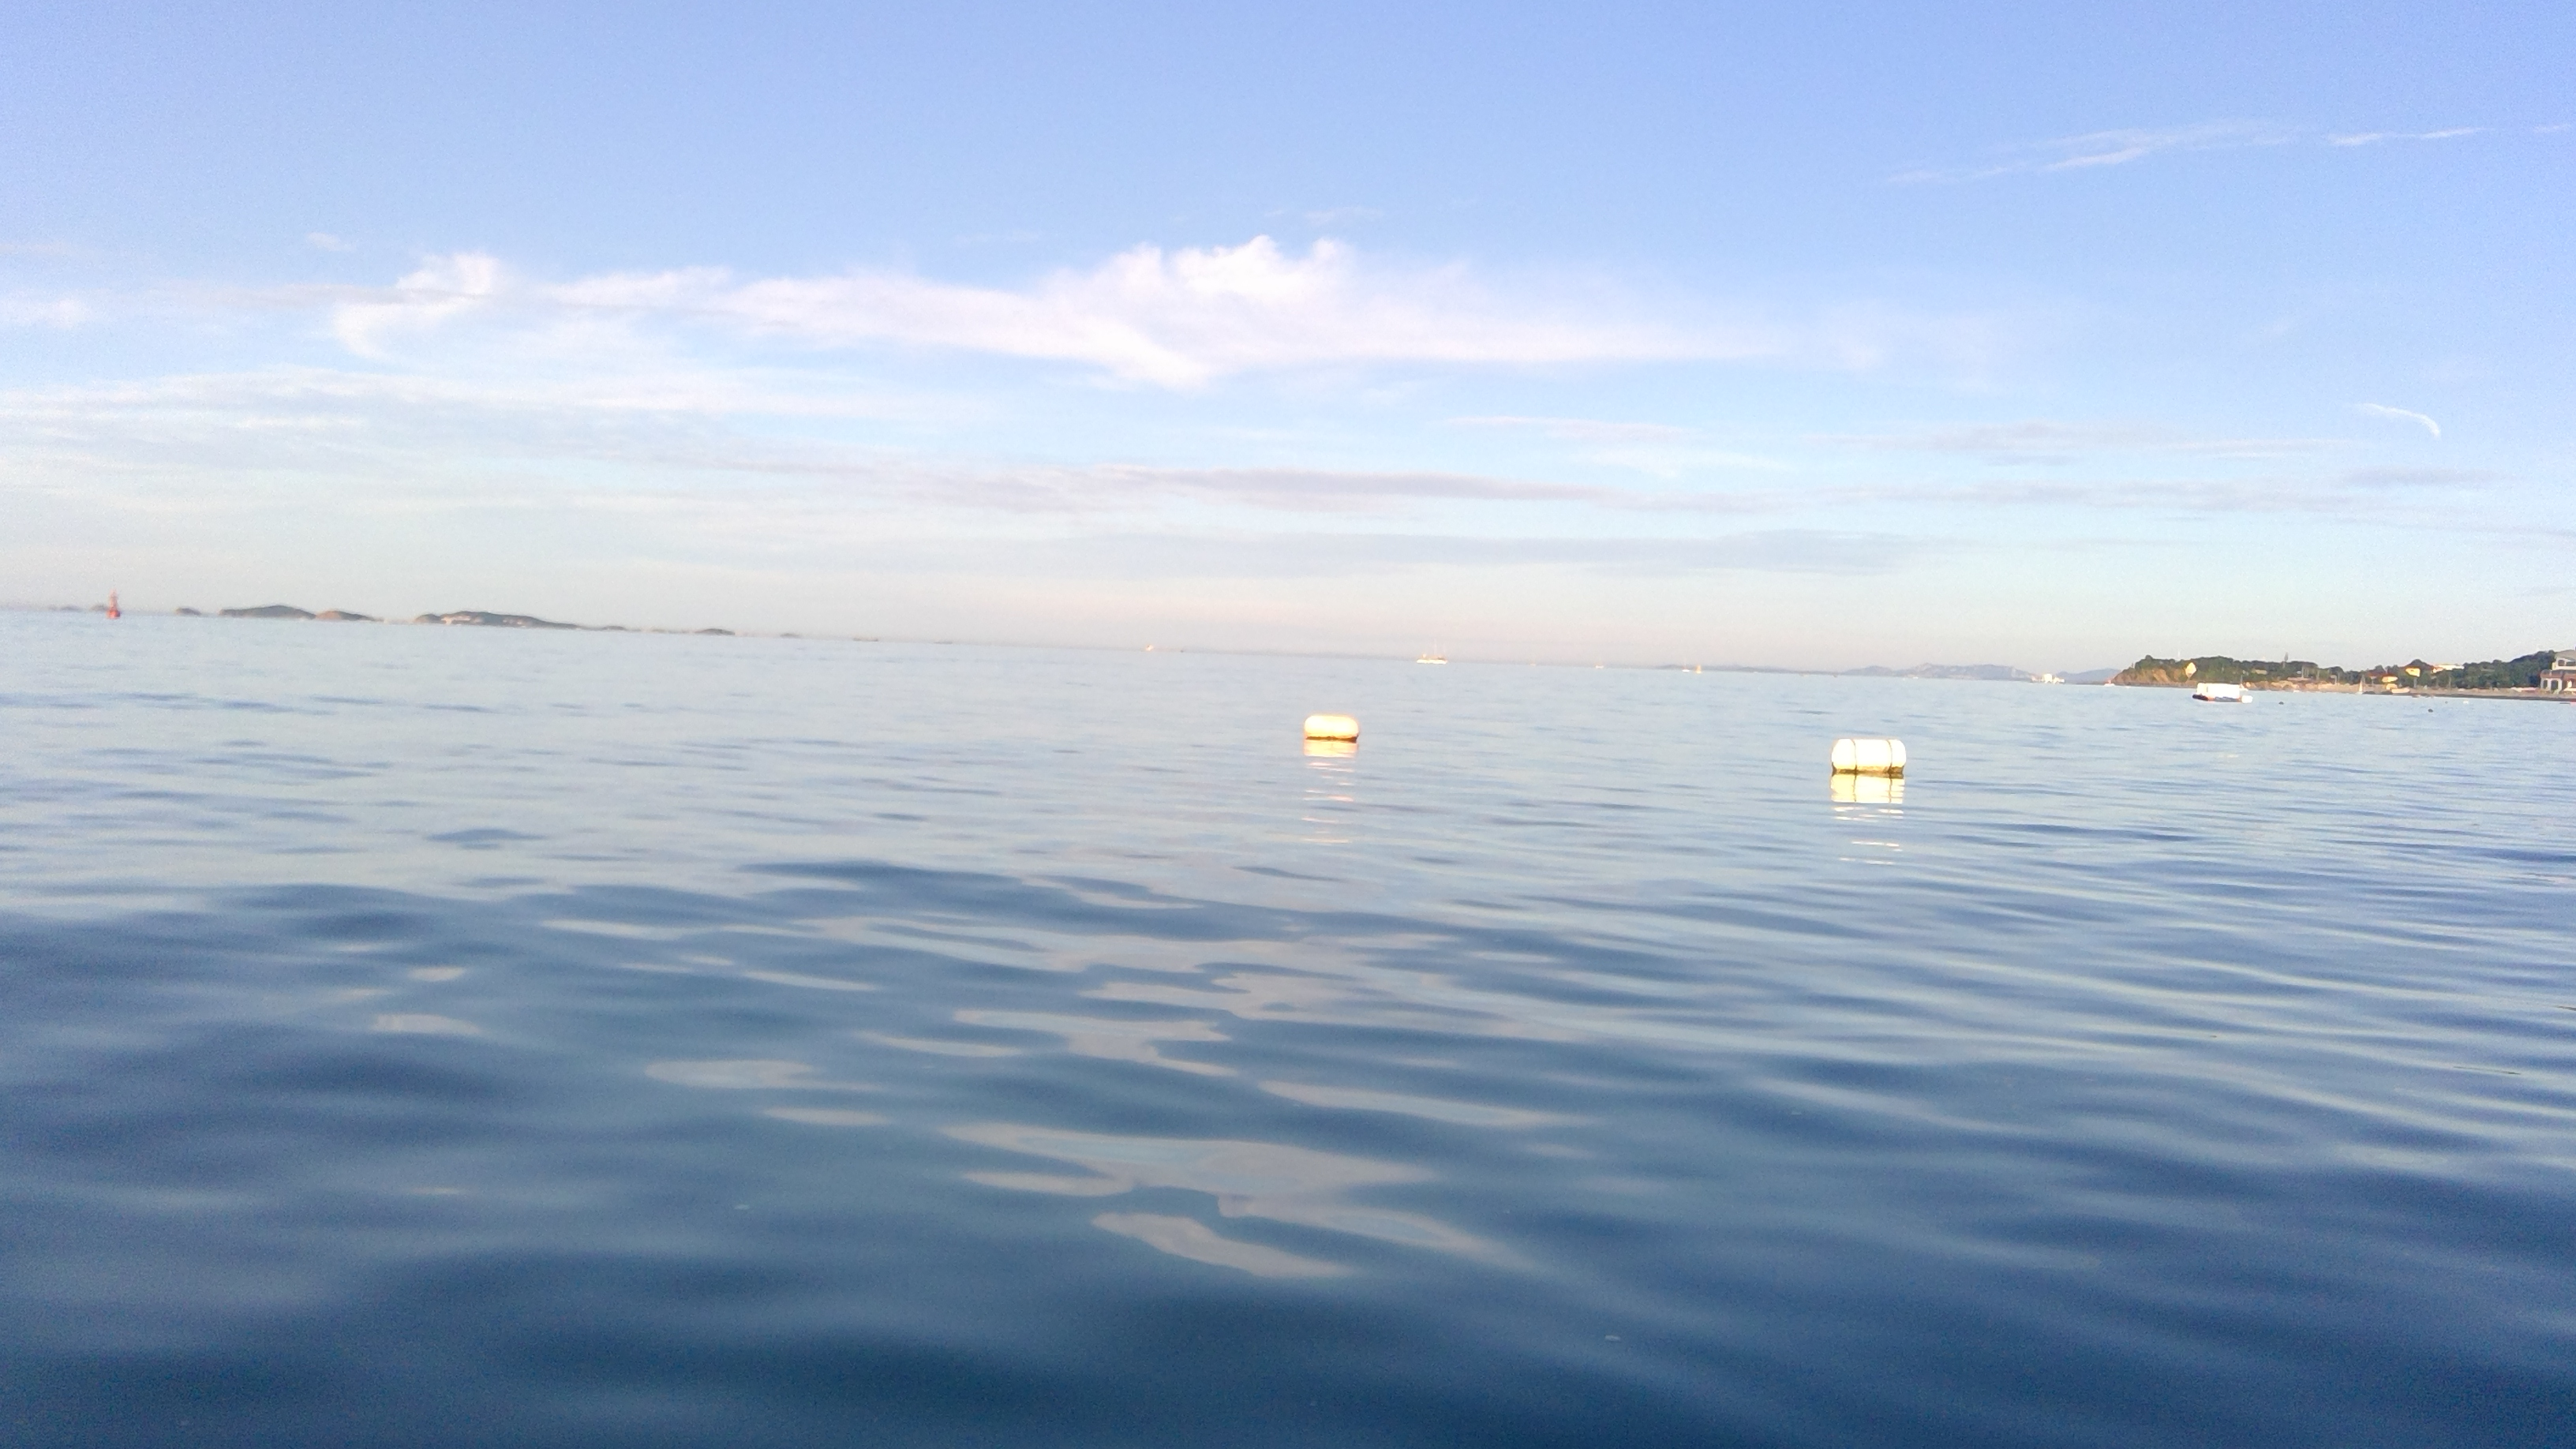ball: (1828, 736, 1918, 780), (1292, 706, 1359, 747)
